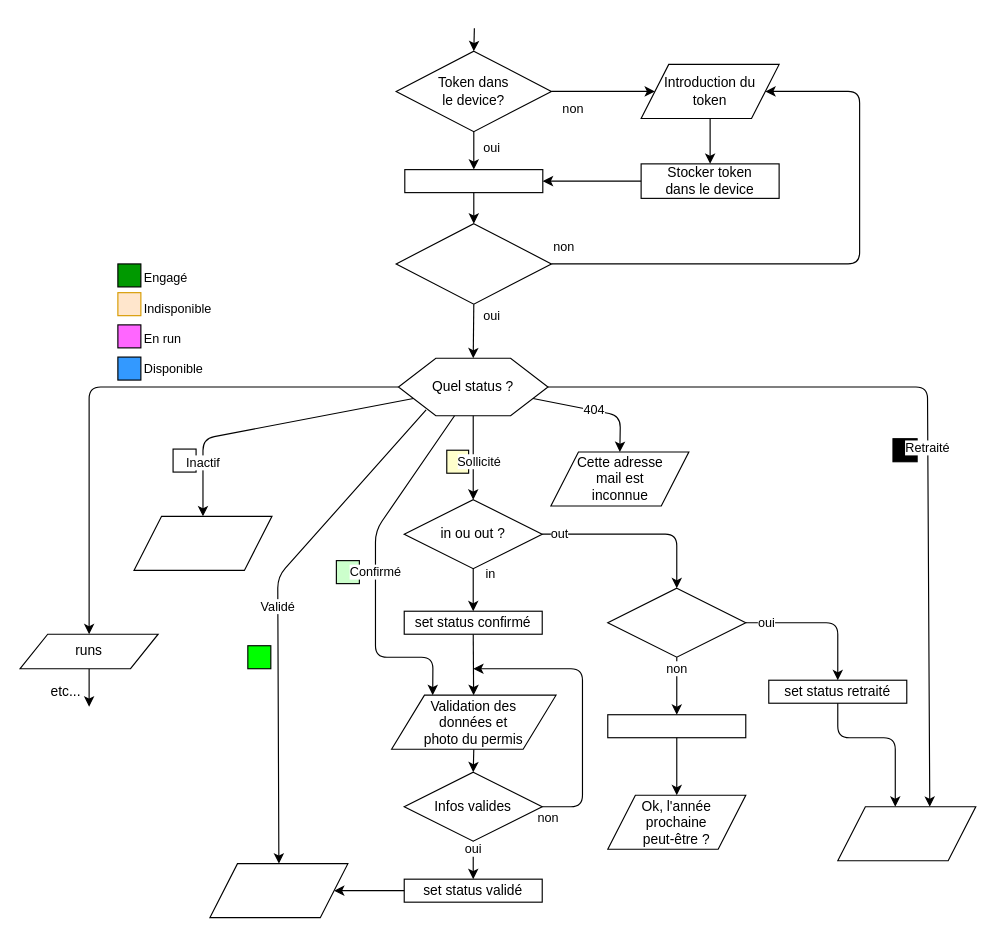
Some shapes in this 996 by 938 pixel diagram are drawn without their labels. The box of each missing label's shape, as (x1, y1, x2, y2) in pixels:
get status from API: (404, 168, 543, 193)
Http error code = 200 ?: (395, 223, 551, 304)
Merci pour ces années passées: (837, 806, 976, 861)
On n'a pas besoin de toi, Merci: (133, 515, 272, 570)
Permanent ?: (607, 587, 746, 657)
set status inactif: (607, 714, 746, 738)
Ton inscription est en cours de validation: (209, 862, 348, 918)
